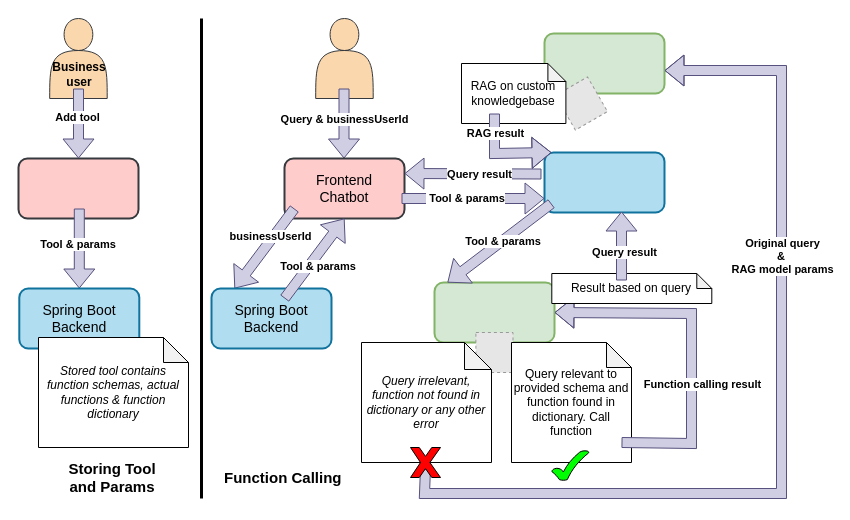
This 850x520 diagram has some shape labels left out. Grey dashed boxes stand in for pictures. Each missing label, with the centre of its shape:
"AI Backend" goes at point 604,182.
"Any user" goes at point 344,58.
"Custom Chatbot RAG Model" goes at point 604,63.
"Frontend" goes at point 78,188.
"Function Calling Model" goes at point 494,312.
